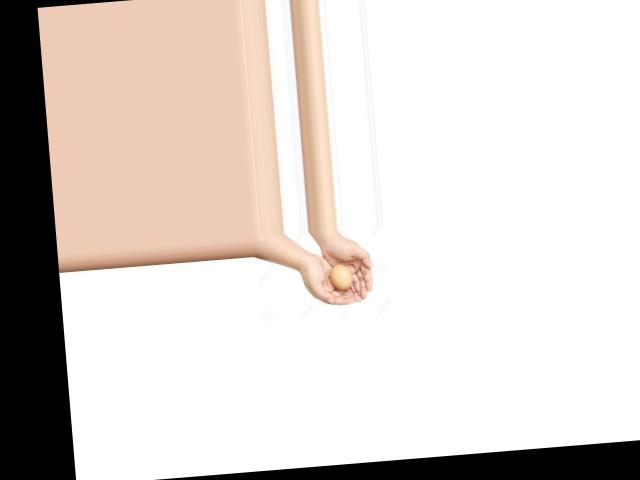egg: (328, 263, 352, 289)
